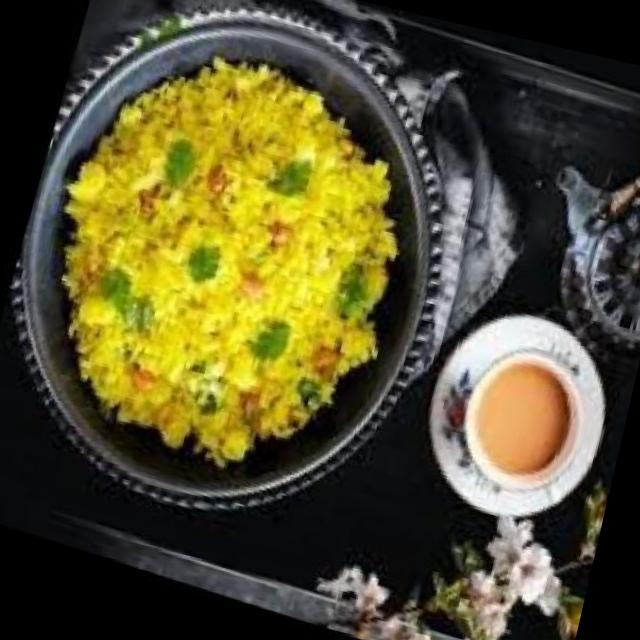poha: (0, 24, 441, 510)
